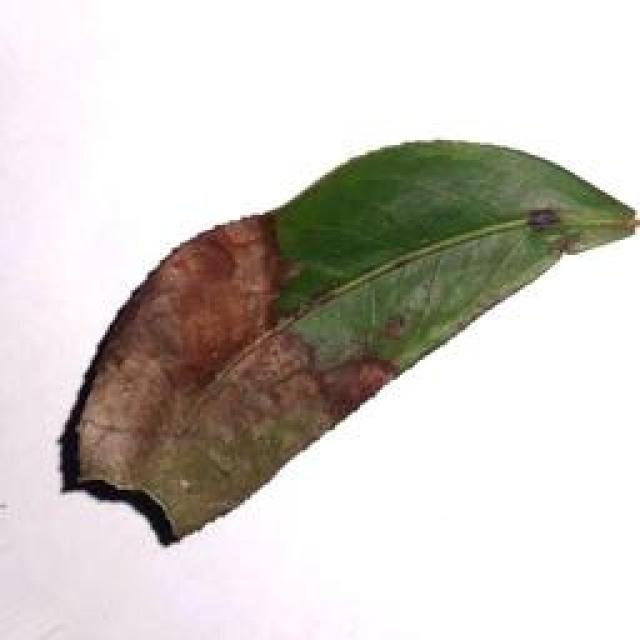Brown Blight: (73, 131, 640, 525)
